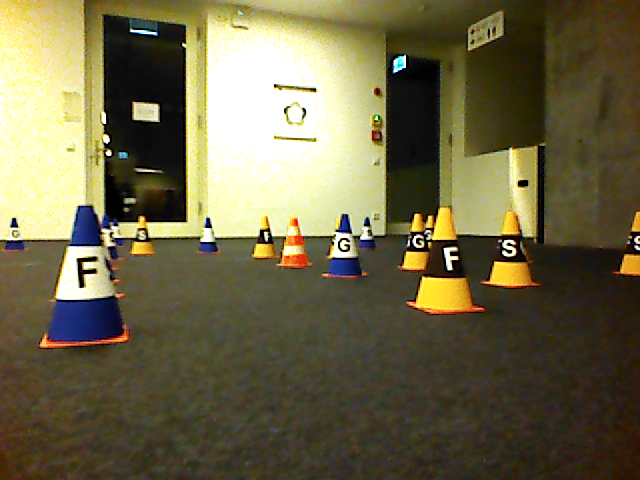bluecone: (39, 205, 132, 347), (324, 213, 370, 279)
orangeconesmall: (277, 217, 313, 270)
yellowcone: (412, 207, 481, 315), (481, 211, 544, 291), (613, 209, 640, 279), (397, 212, 426, 272)
